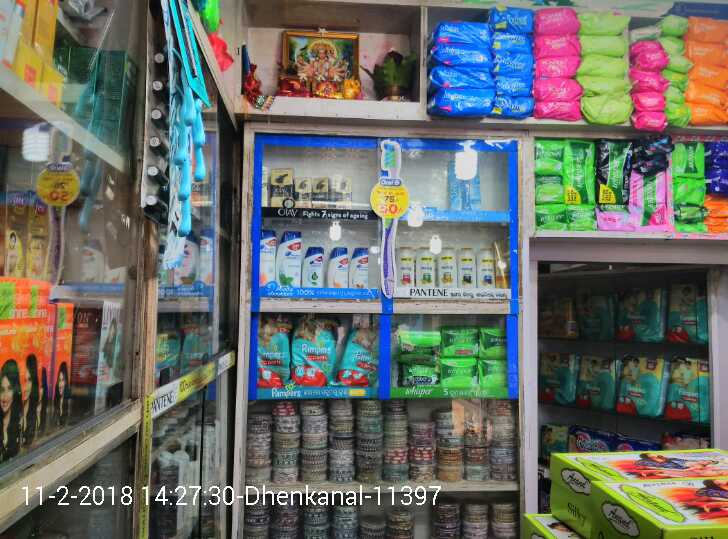venus: (163, 21, 210, 269), (448, 155, 479, 207)
